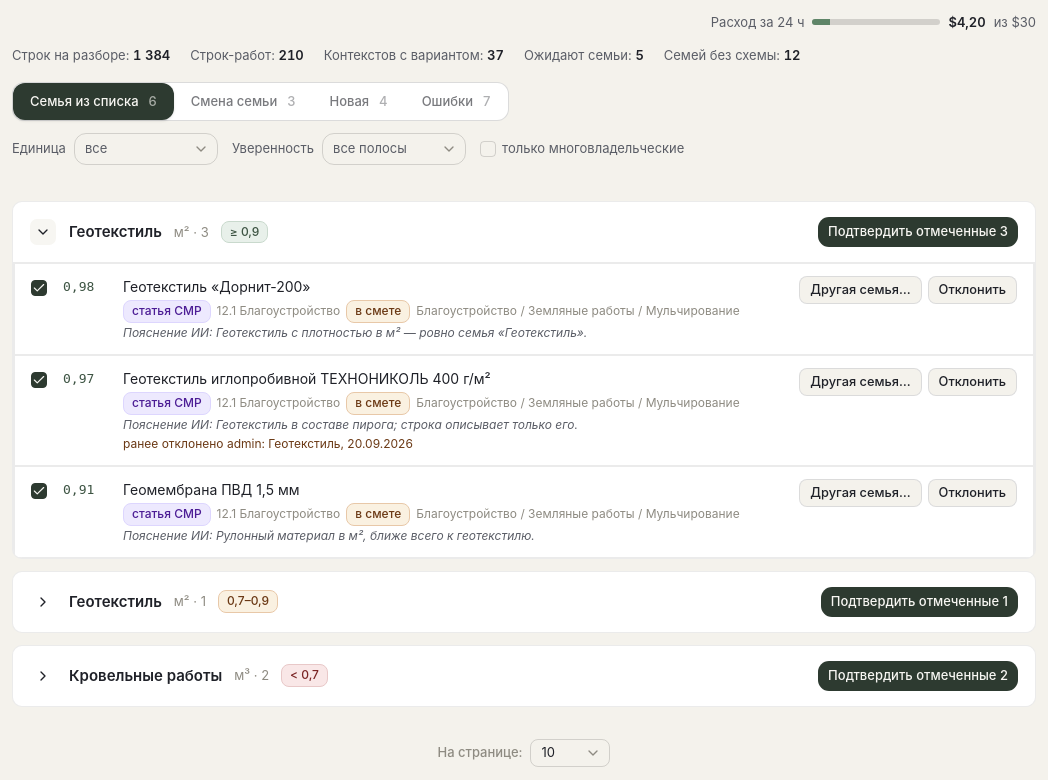
Scenario: SuggestionsTab — блок «Открыть семьи» › фильтр единицы очереди сужает и блок
Click the tab "Новая 4" at (359, 101), box [312,83,405,120]
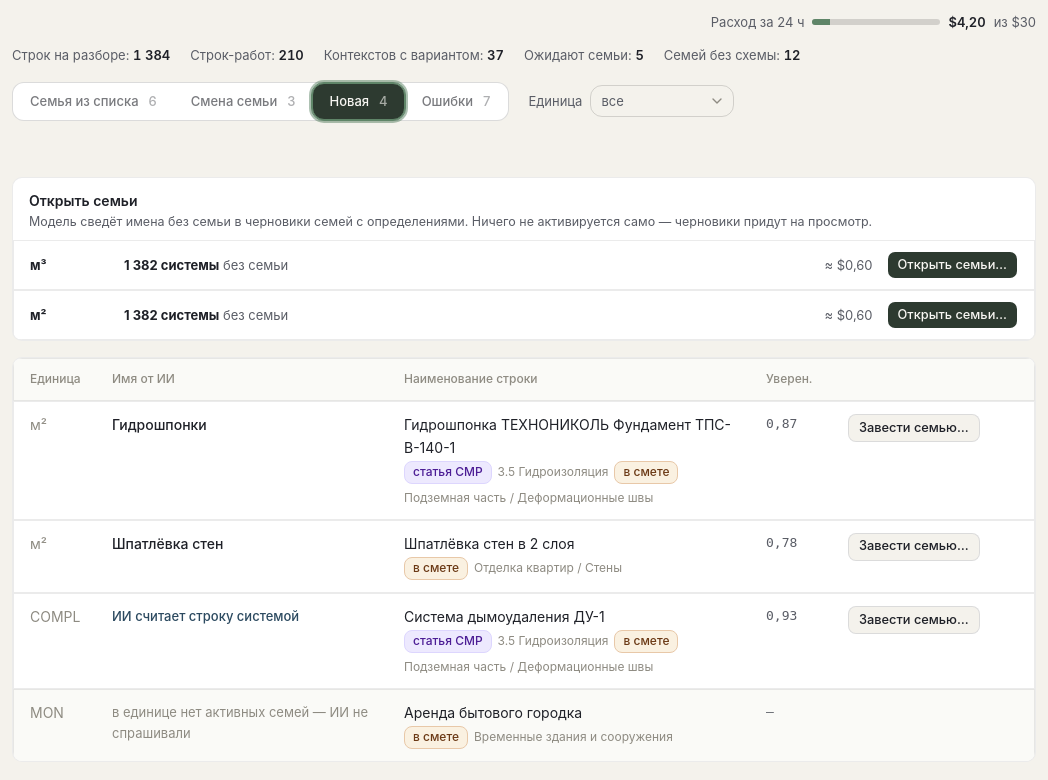
Now the element with test id "new-queue" is shown, box [12,358,1036,762]
Now the element with test id "discovery-block" is shown, box [12,177,1036,342]
Click the dropdown named "Единица" at (662, 101), box [590,85,734,117]
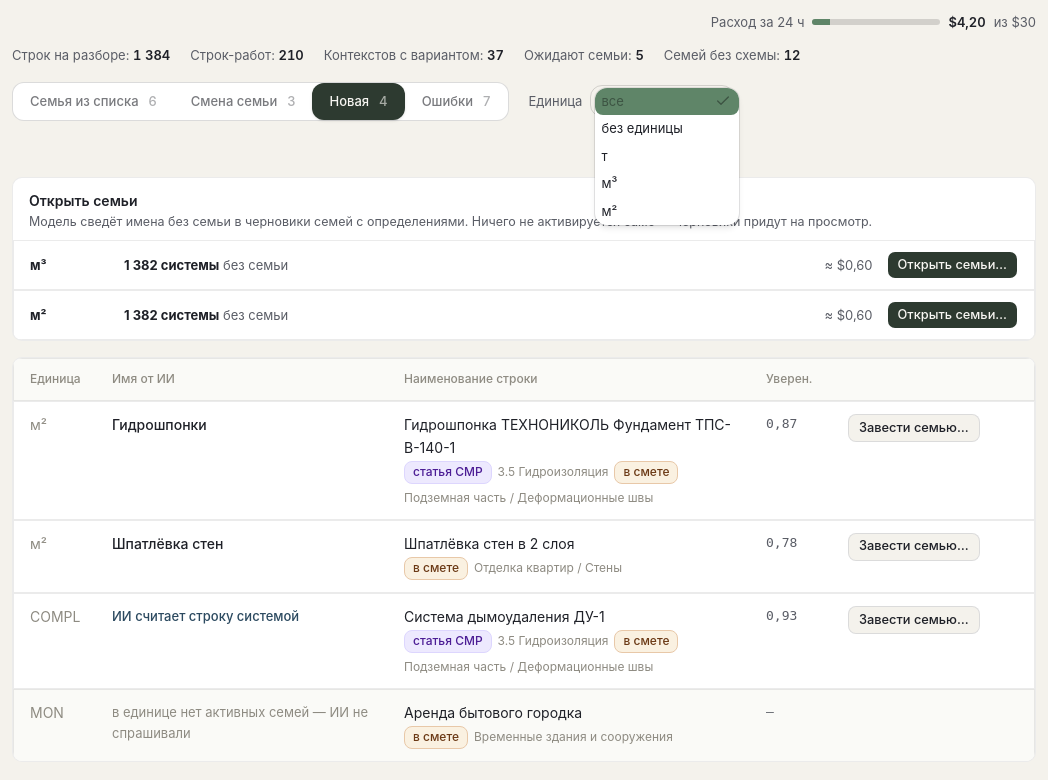
Click the option "м²" at (609, 211), box [601,203,617,219]
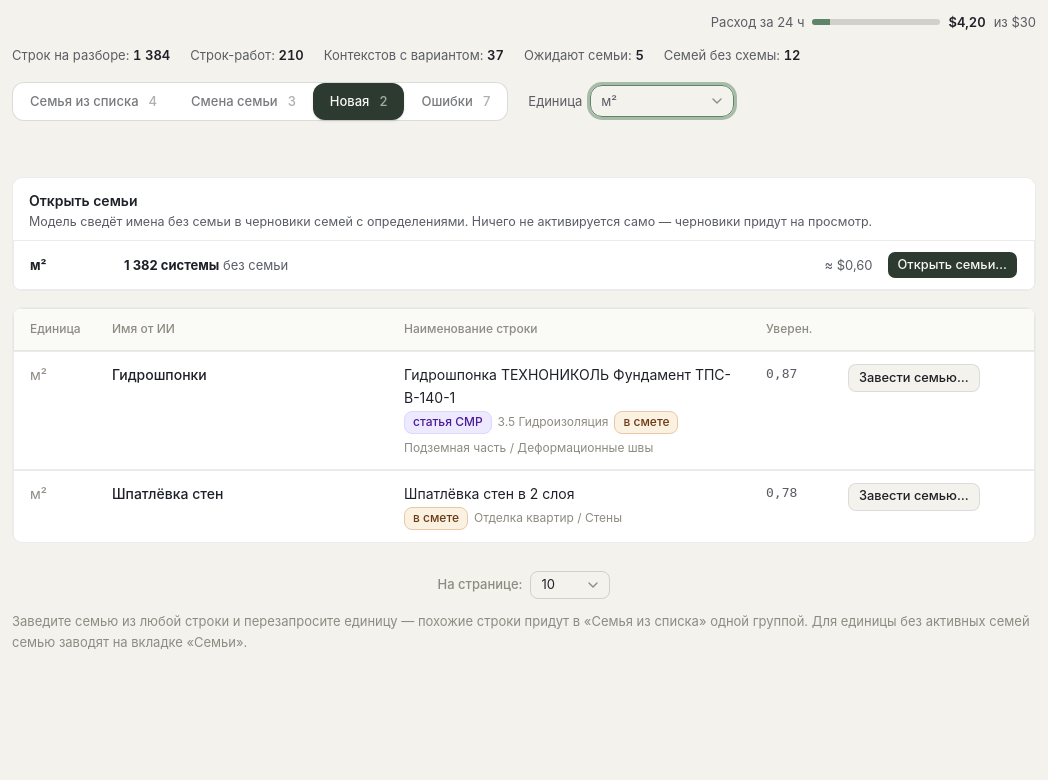
Expected: the text "м²" next to "1 382 системы" is shown, [30,257,46,273]
Now the number of elements with test id "discovery-unit-row" is 1, box [13,240,1035,290]
